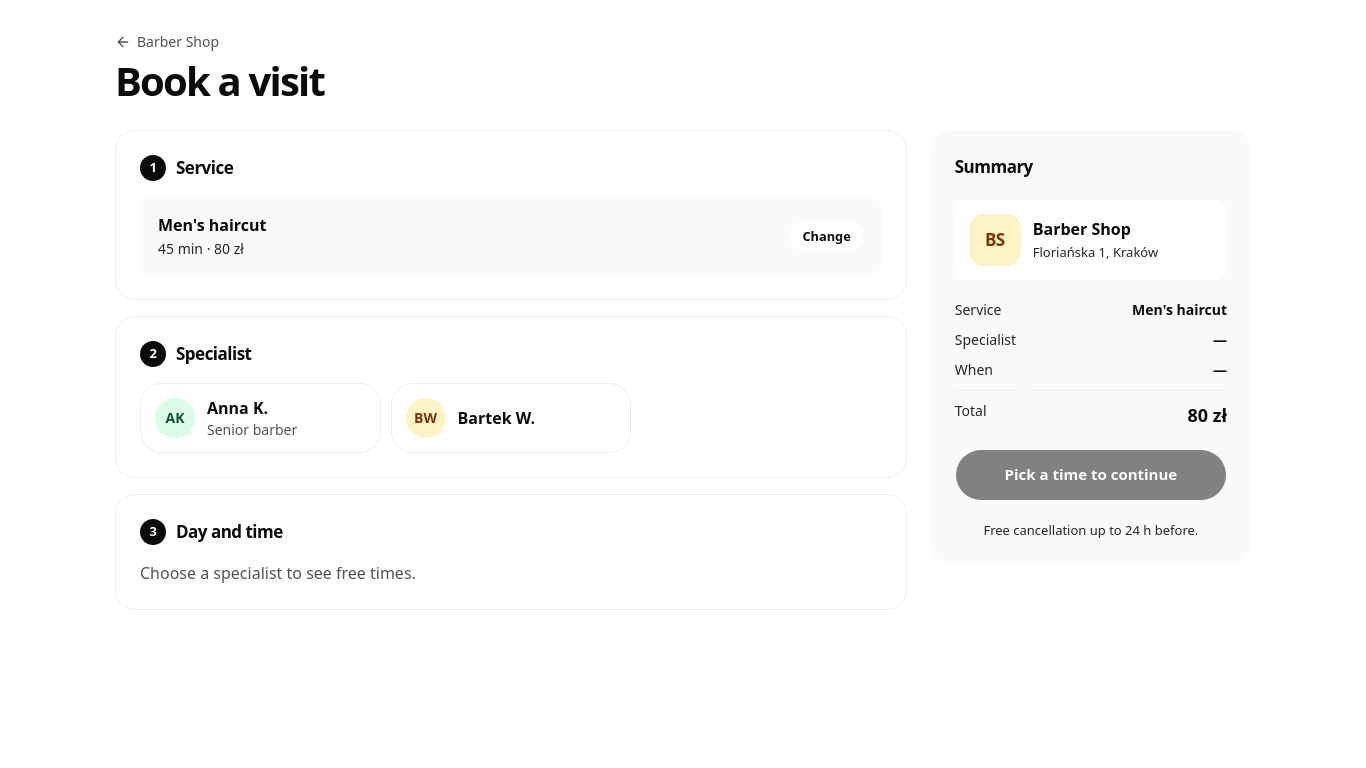
Test: BookingPage › walks from specialist to time and fills the summary
The width and height of the screenshot is (1366, 768).
Expected: the heading "Book a visit" is shown, 115,53 -> 324,108
Expected: the text "Choose a specialist to see free times." is shown, 140,562 -> 416,584
Click the button "AK Anna K. Senior barber": (260, 418) 140,383 -> 381,453
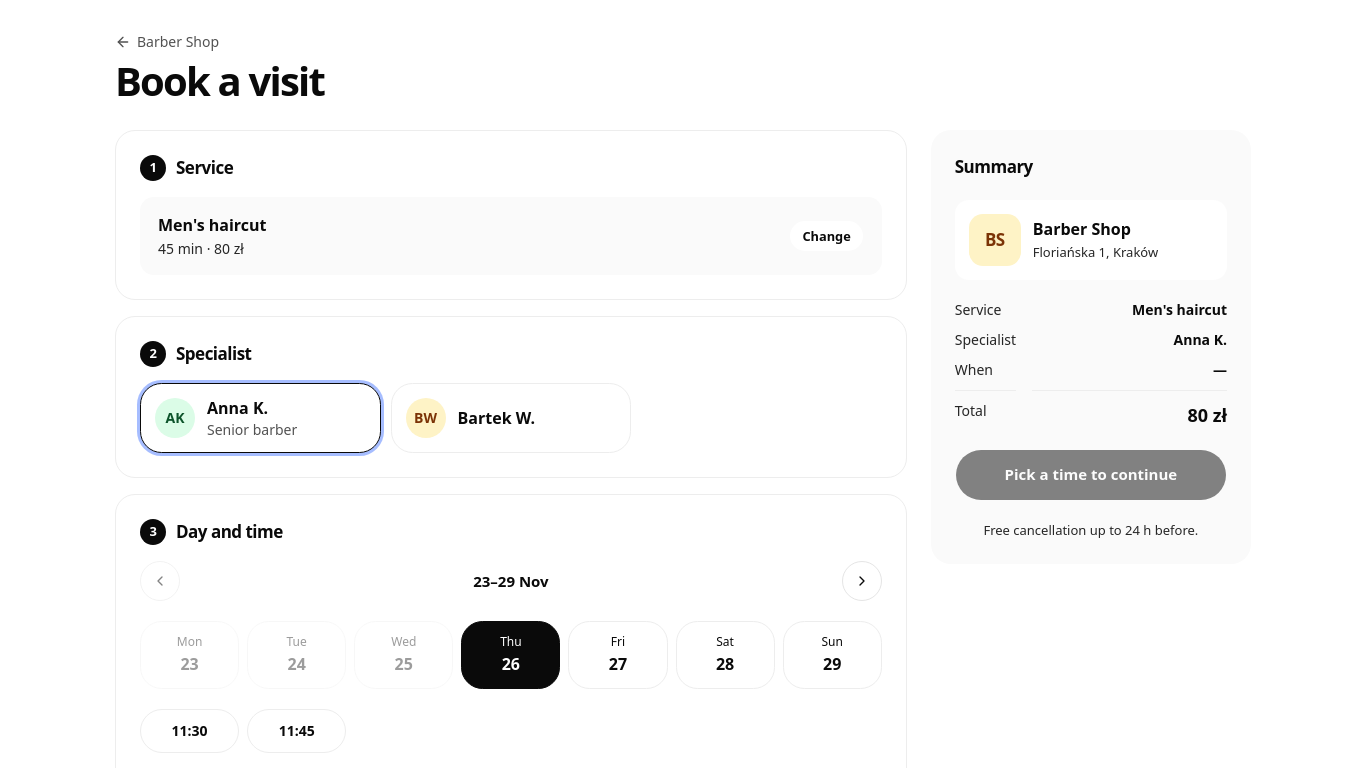
Click the button "11:30": (190, 731) 140,709 -> 239,753
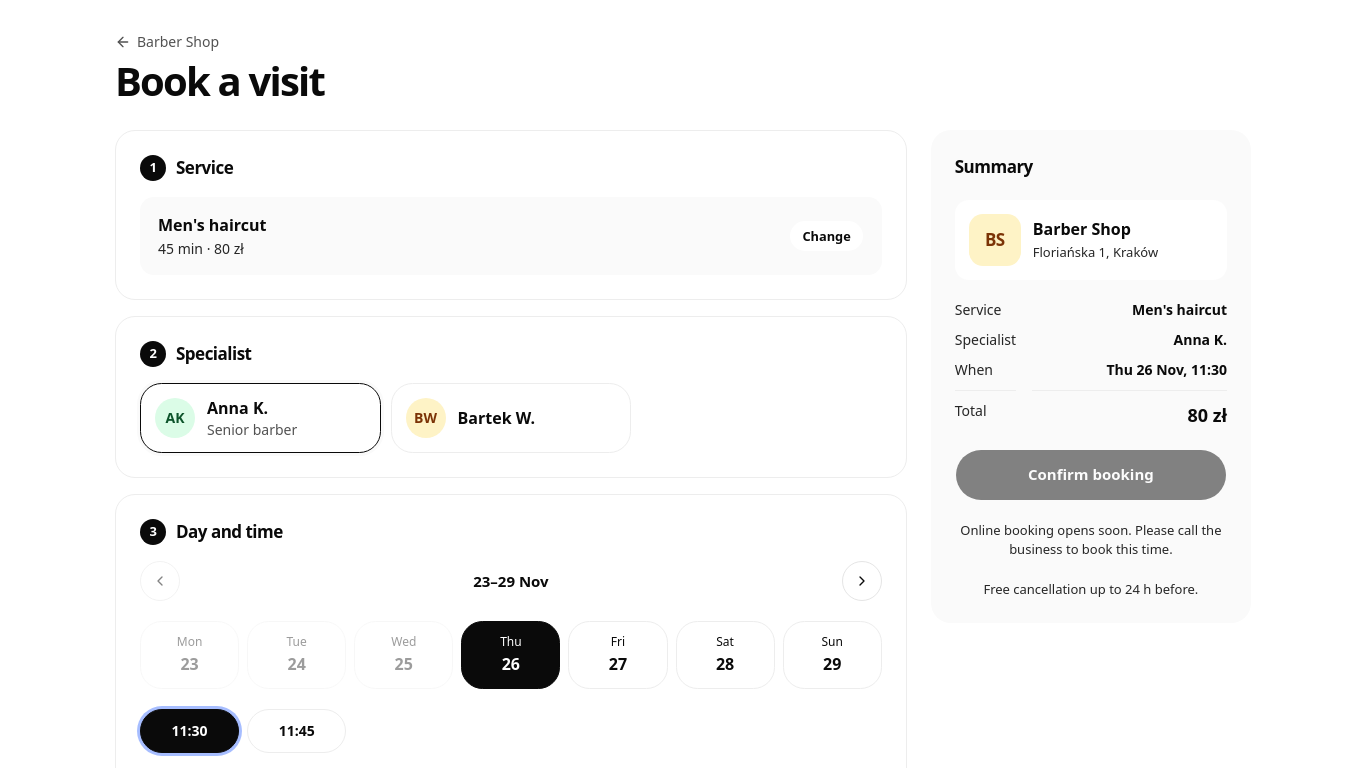
Expected: the text "Men's haircut" below "Floriańska 1" is shown, 1132,300 -> 1227,318
Expected: the text "Anna K." below "Floriańska 1" is shown, 1174,330 -> 1227,348
Expected: the text "Thu 26 Nov, 11:30" is shown, 1106,360 -> 1227,378
